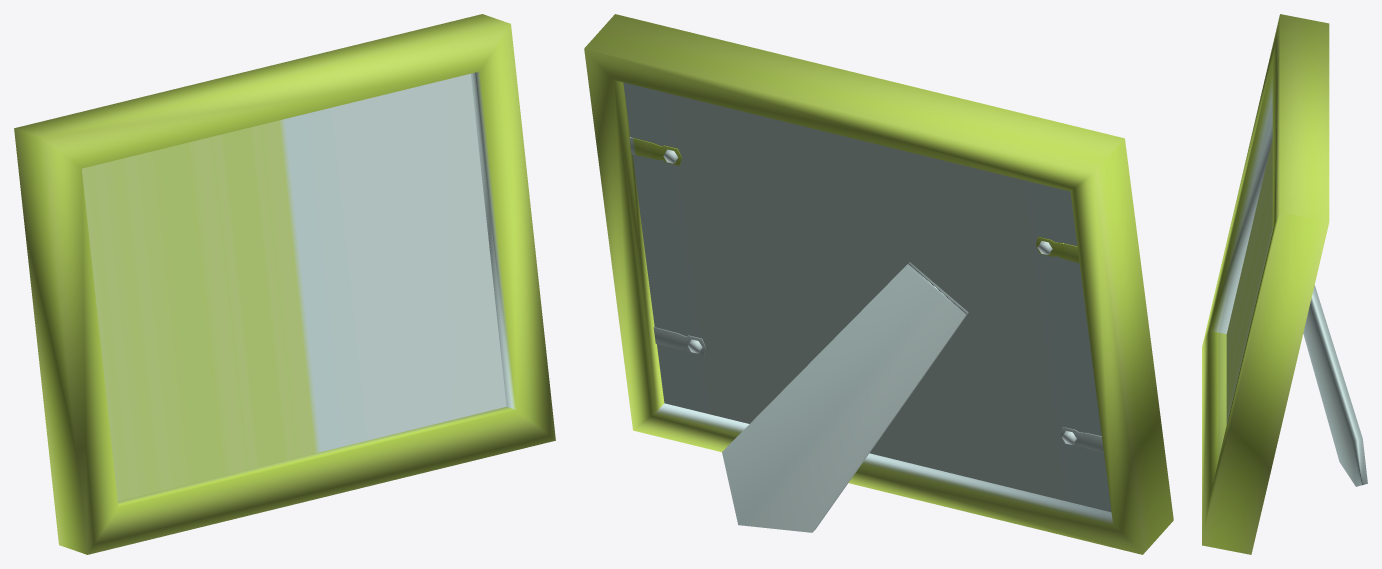
File: a_sch_dorm01_photoframe.gltf
The picture shows the model from 3 angles, left to right: view 1: azimuth 30°, elevation 25°; view 2: azimuth 150°, elevation 25°; view 3: azimuth 270°, elevation 25°; orthographic projection. The views are drawn at different scales.
Parts seen in each view (by area): view 1: a_sch_dorm01_photoframe_mesh_shape:a_sch_dorm01_photoframe_m, a_sch_dorm01_photoframe_mesh_shape:a_sch_dorm01_photoframe_g; view 2: a_sch_dorm01_photoframe_mesh_shape:a_sch_dorm01_photoframe_m; view 3: a_sch_dorm01_photoframe_mesh_shape:a_sch_dorm01_photoframe_m, a_sch_dorm01_photoframe_mesh_shape:a_sch_dorm01_photoframe_g.
Part boxes in pixels (box(x1,y1,x2,y2)): a_sch_dorm01_photoframe_mesh_shape:a_sch_dorm01_photoframe_m: box(14, 14, 555, 554); a_sch_dorm01_photoframe_mesh_shape:a_sch_dorm01_photoframe_g: box(82, 73, 510, 503); a_sch_dorm01_photoframe_mesh_shape:a_sch_dorm01_photoframe_m: box(584, 14, 1173, 554); a_sch_dorm01_photoframe_mesh_shape:a_sch_dorm01_photoframe_m: box(1202, 14, 1367, 554); a_sch_dorm01_photoframe_mesh_shape:a_sch_dorm01_photoframe_g: box(1218, 103, 1272, 458).
Bounding box in the file's own units: 0.3207 × 0.2583 × 0.1133.
2 materials, 2 textured.
